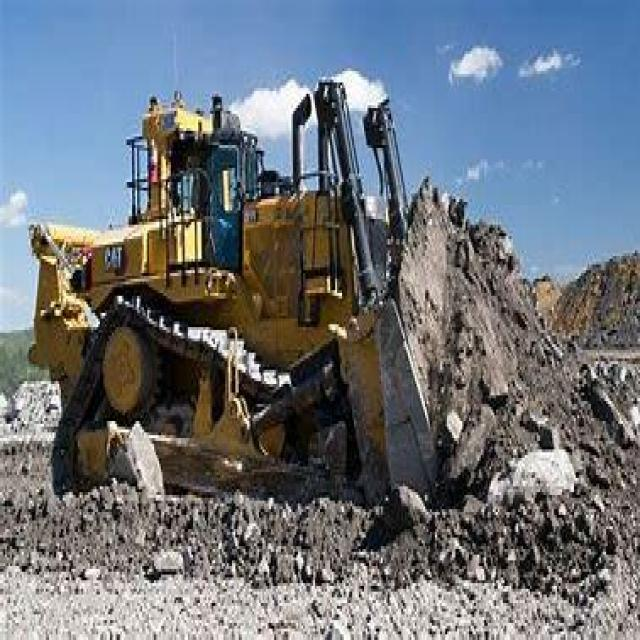Bulldozer: (27, 57, 494, 506)
